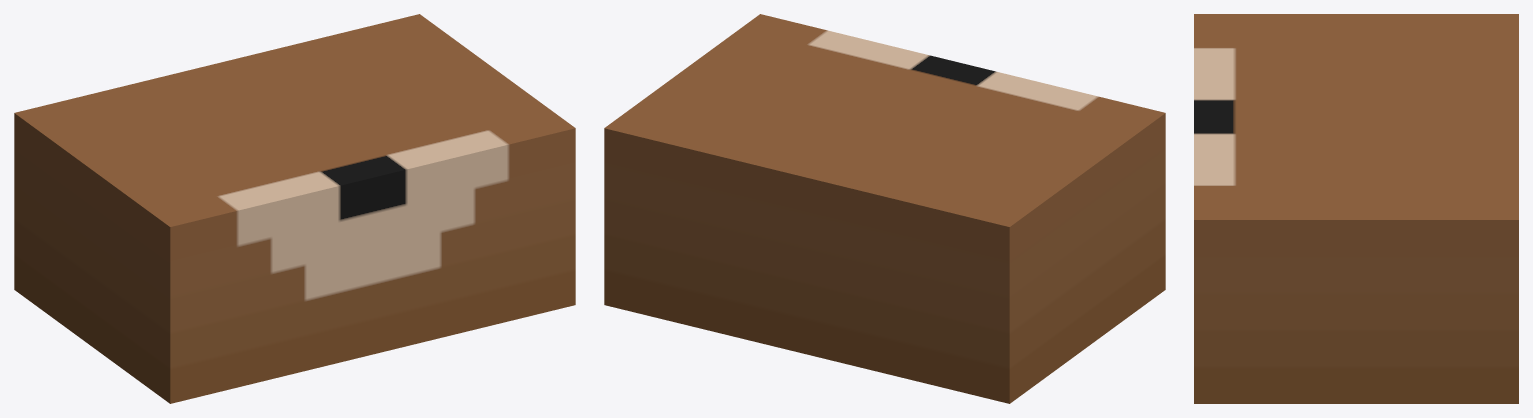
The picture shows the model from 3 angles, left to right: view 1: azimuth 30°, elevation 25°; view 2: azimuth 150°, elevation 25°; view 3: azimuth 270°, elevation 25°; orthographic projection. The views are drawn at different scales.
Visible parts, largest first — view 1: Root063; view 2: Root063; view 3: Root063.
Part boxes in pixels (x1,y1,x2,y2): Root063: [14, 14, 575, 403]; Root063: [604, 14, 1165, 403]; Root063: [1194, 14, 1518, 403].
Bounding box in the file's own units: 12 × 5 × 8.
